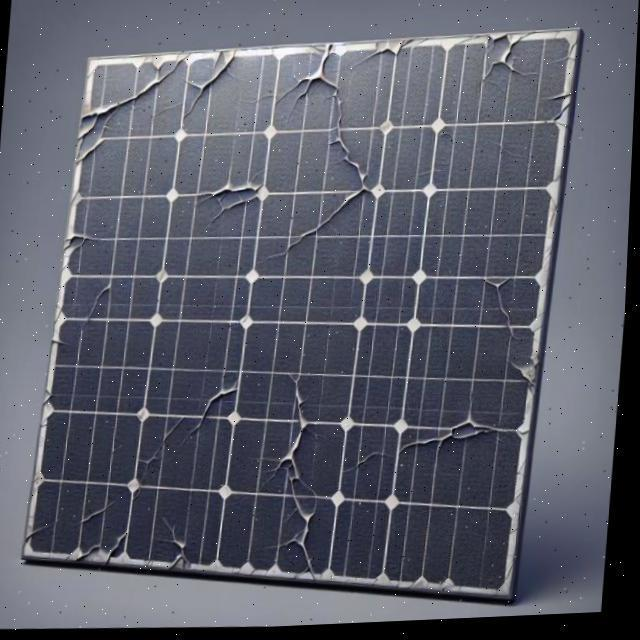Anomaly Solar Panel: (22, 14, 577, 600)
Structural Damage: (198, 45, 386, 269), (242, 374, 334, 592), (122, 407, 188, 504), (161, 37, 238, 119), (171, 376, 246, 451), (116, 49, 193, 112), (59, 93, 120, 168), (484, 272, 524, 351), (475, 41, 538, 87), (154, 517, 204, 571), (77, 282, 114, 330), (341, 448, 399, 476), (24, 511, 70, 544), (105, 525, 137, 565), (215, 182, 257, 210), (402, 438, 455, 460), (77, 501, 121, 527), (453, 422, 480, 447), (70, 233, 87, 249), (538, 97, 570, 105)
